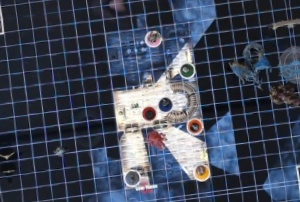blue: (155, 95, 173, 115)
green: (176, 59, 197, 79)
orange: (182, 114, 206, 137)
pink: (141, 28, 161, 47)
red: (138, 102, 157, 124)
violet: (119, 166, 141, 187)
yellow: (190, 160, 214, 182)
